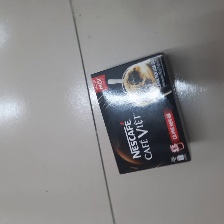CF Viet: (90, 52, 192, 176)
